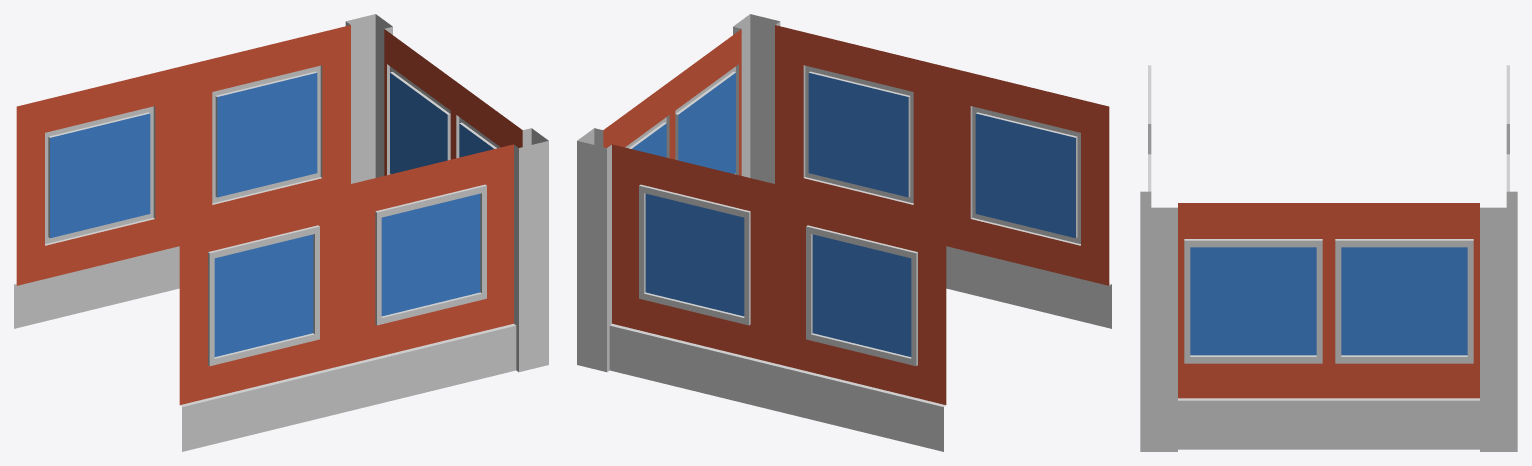
3 views of the same model, side by side, from view 1: azimuth 30°, elevation 25°; view 2: azimuth 150°, elevation 25°; view 3: azimuth 270°, elevation 25° (orthographic). The views are drawn at different scales.
Visible parts, largest first — view 1: 04a_Base; view 2: 04a_Base; view 3: 04a_Base.
Part boxes in pixels (box(x1,y1,x2,y2)): 04a_Base: box(14, 14, 548, 451); 04a_Base: box(577, 14, 1111, 451); 04a_Base: box(1140, 65, 1517, 451).
Bounding box in the file's own units: 42.5 × 35 × 25.
